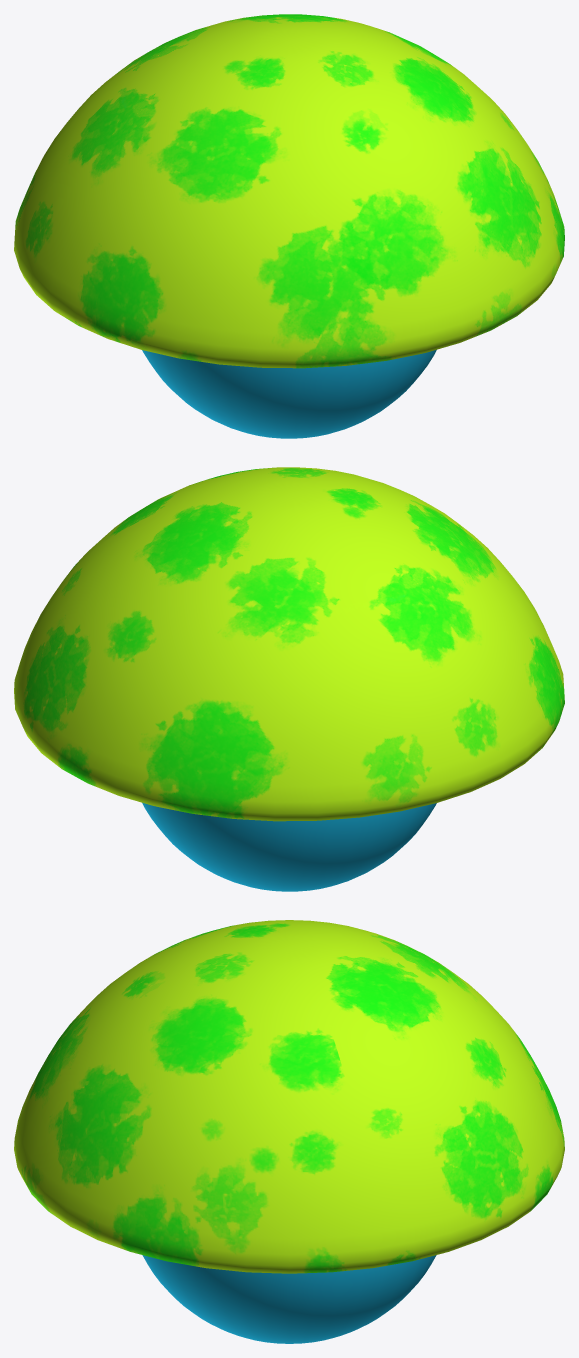
Rendered from mushroom11.fbx.
3 renders of one model, top to bottom at view 1: azimuth 30°, elevation 25°; view 2: azimuth 150°, elevation 25°; view 3: azimuth 270°, elevation 25°, orthographic.
Parts seen in each view (by area): view 1: pSphere1; view 2: pSphere1; view 3: pSphere1.
Boxes of the visible parts, x1=… form: pSphere1: x1=14, y1=14, x2=564, y2=438; pSphere1: x1=14, y1=467, x2=564, y2=891; pSphere1: x1=14, y1=920, x2=564, y2=1343.
Size of the model in its own units: 9.22 by 7.08 by 9.22.
1 material, 1 textured.
